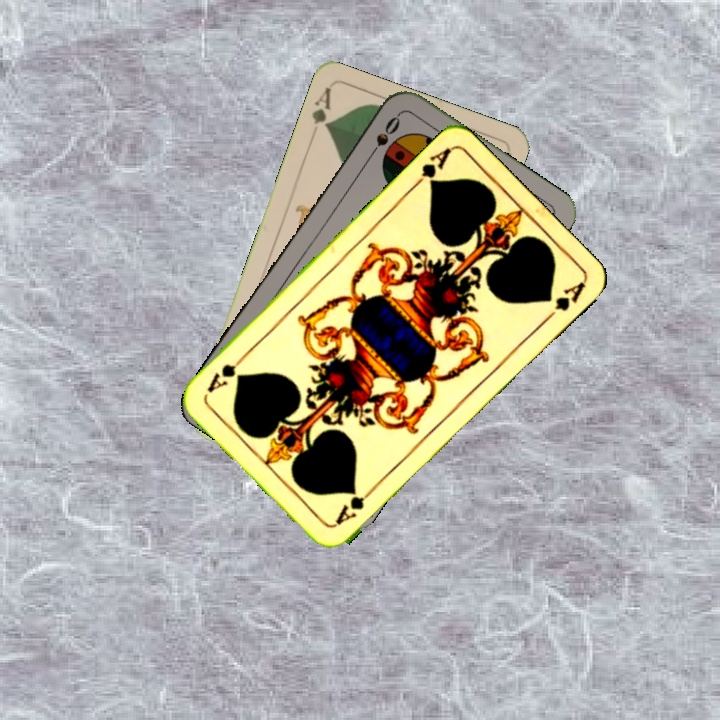GA: (407, 144, 453, 192), (331, 482, 379, 528), (307, 84, 334, 131)
SO: (363, 110, 403, 162)
